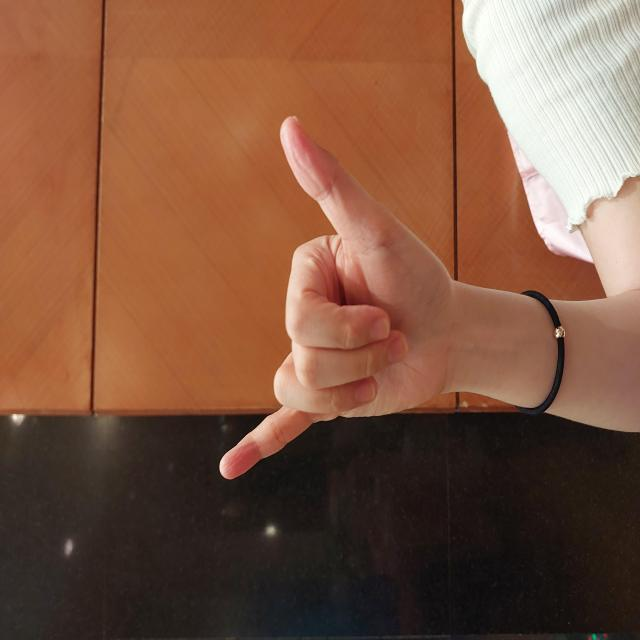Y: (159, 215, 528, 459)
